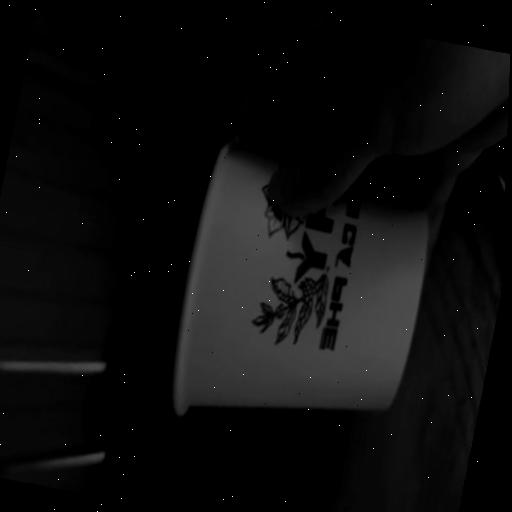ly_giay: (173, 138, 427, 413)
